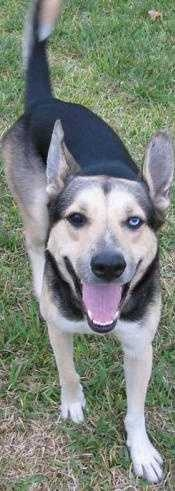Dog: (8, 118, 174, 483)
